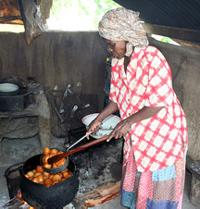person: (88, 8, 189, 208)
